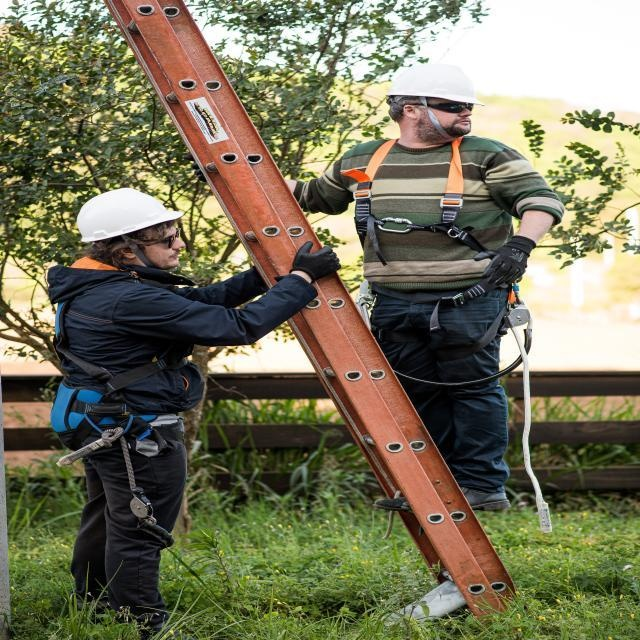Arnes_seguridad: (339, 136, 534, 368)
